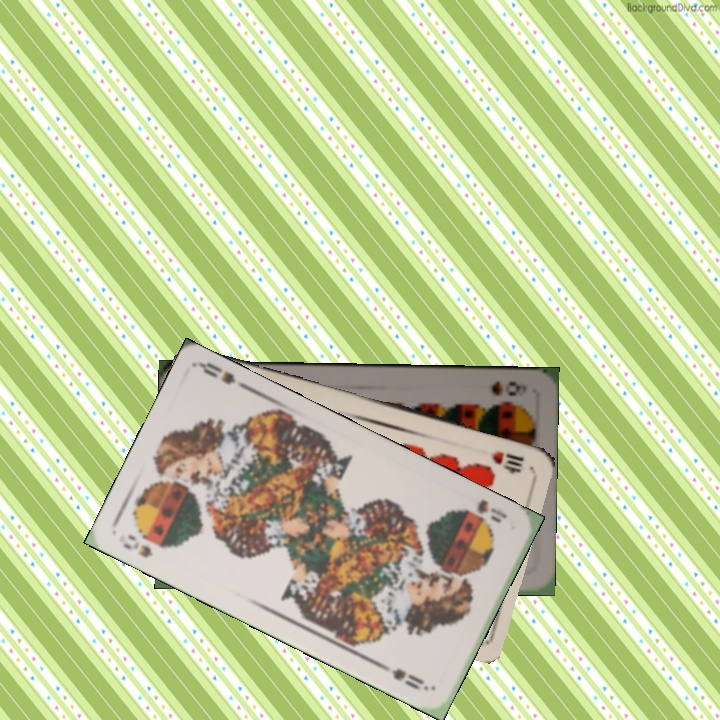H10: (488, 447, 527, 473)
S8: (487, 377, 523, 398)
SO: (473, 495, 510, 526), (118, 530, 155, 561)
